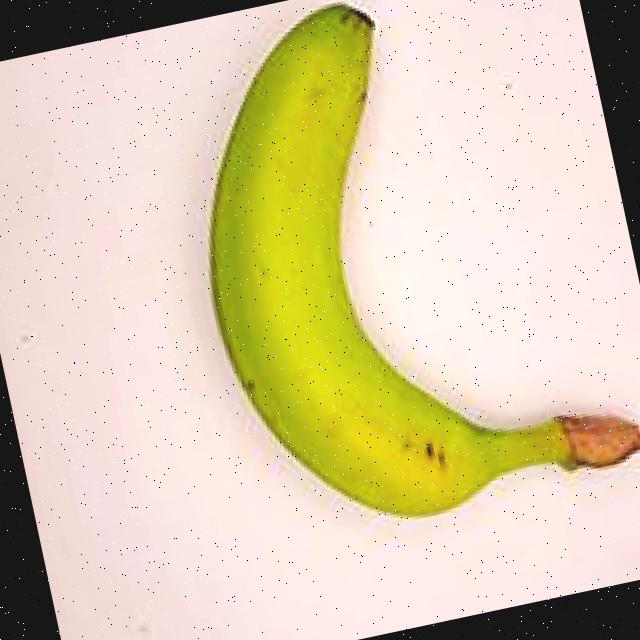Unripe: (105, 0, 640, 591)
